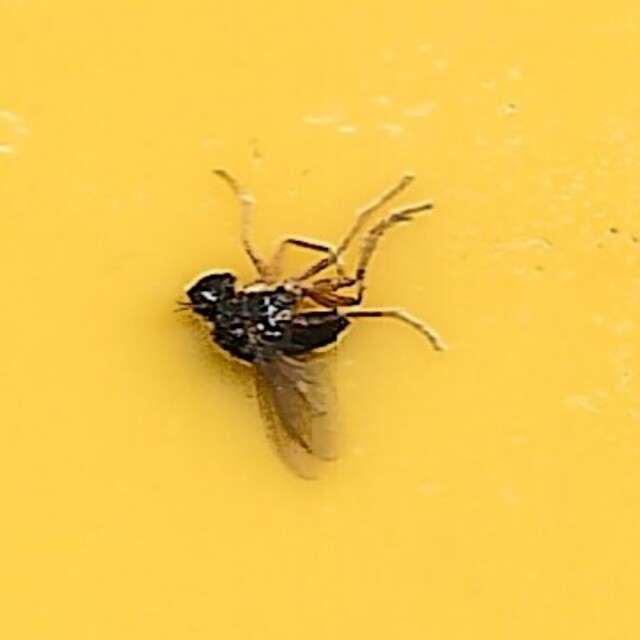Brachycera: (176, 168, 464, 472)
